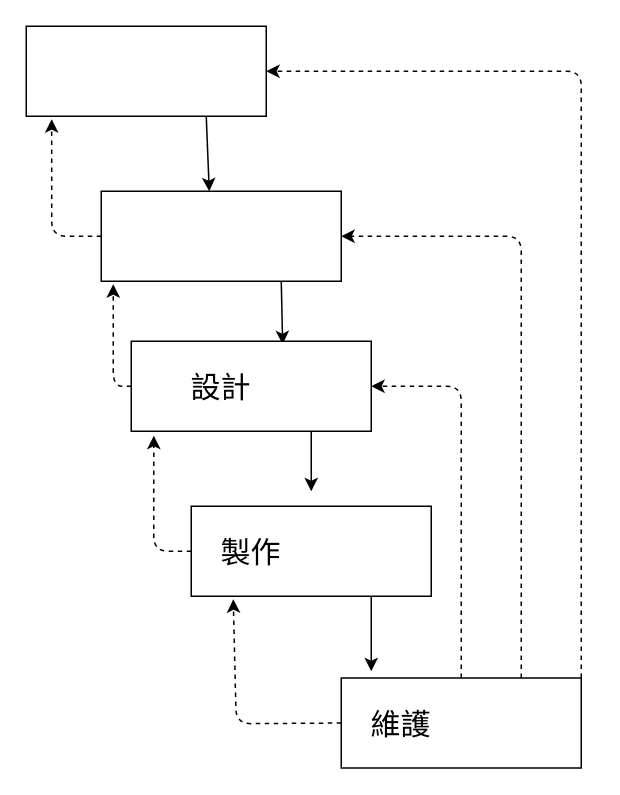
The diagram is 620 pixels wide and 795 high, and some of its shapes have lost their labels. Each missing label, with the centre of its shape:
分析: (x=220, y=235)
需求: (x=145, y=70)
